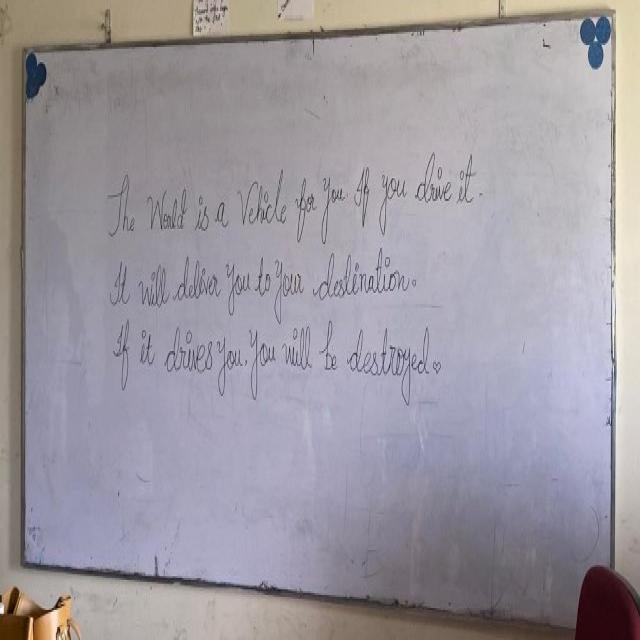White-board: (25, 16, 617, 624)
